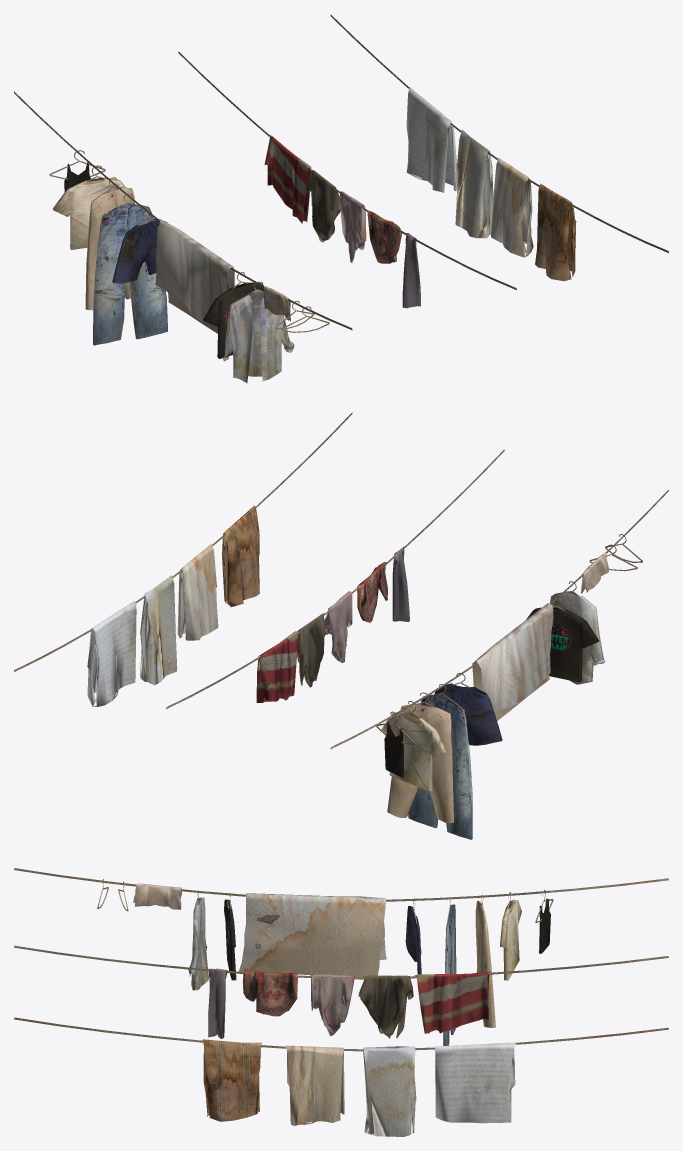
The model's file is scene.lite.glb.
The picture shows the model from 3 angles, top to bottom: view 1: azimuth 30°, elevation 25°; view 2: azimuth 150°, elevation 25°; view 3: azimuth 270°, elevation 25°; orthographic projection. The views are drawn at different scales.
Bounding box in the file's own units: 21.66 × 9.92 × 34.46.
Materials: 5 (5 with a texture image).
